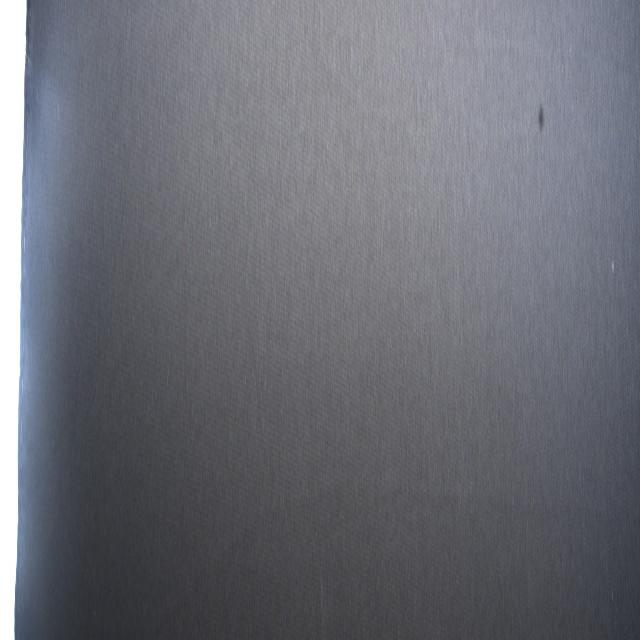crease: (159, 467, 500, 635), (84, 215, 186, 456)
whiteDefect: (611, 257, 614, 278)
